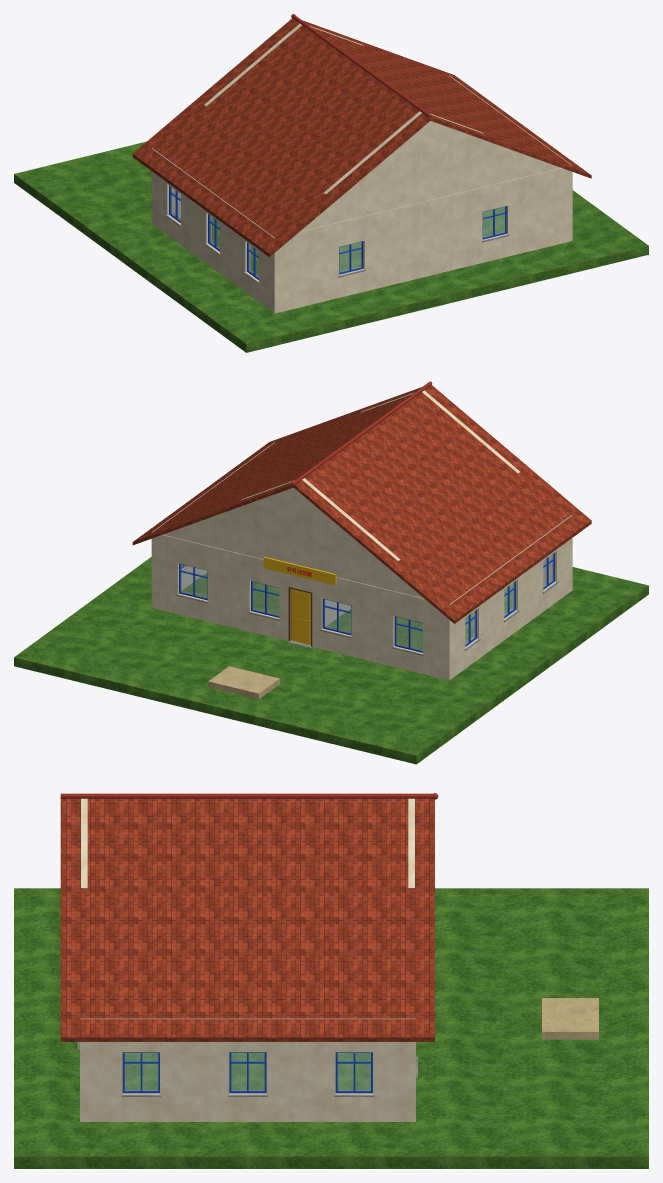
File: b_kindergarten.gltf
3 renders of one model, top to bottom at view 1: azimuth 30°, elevation 25°; view 2: azimuth 150°, elevation 25°; view 3: azimuth 270°, elevation 25°, orthographic. The views are drawn at different scales.
Parts seen in each view (by area): view 1: S_kindergarten; view 2: S_kindergarten, D_kindergarten_F1_S4_Door0; view 3: S_kindergarten.
Part boxes in pixels (x1=…): S_kindergarten: x1=14, y1=14, x2=648, y2=352; S_kindergarten: x1=14, y1=381, x2=648, y2=764; D_kindergarten_F1_S4_Door0: x1=291, y1=589, x2=310, y2=644; S_kindergarten: x1=14, y1=793, x2=648, y2=1168.
Bounding box in the file's own units: 19 × 7.97 × 19.
19 materials, 11 textured.
